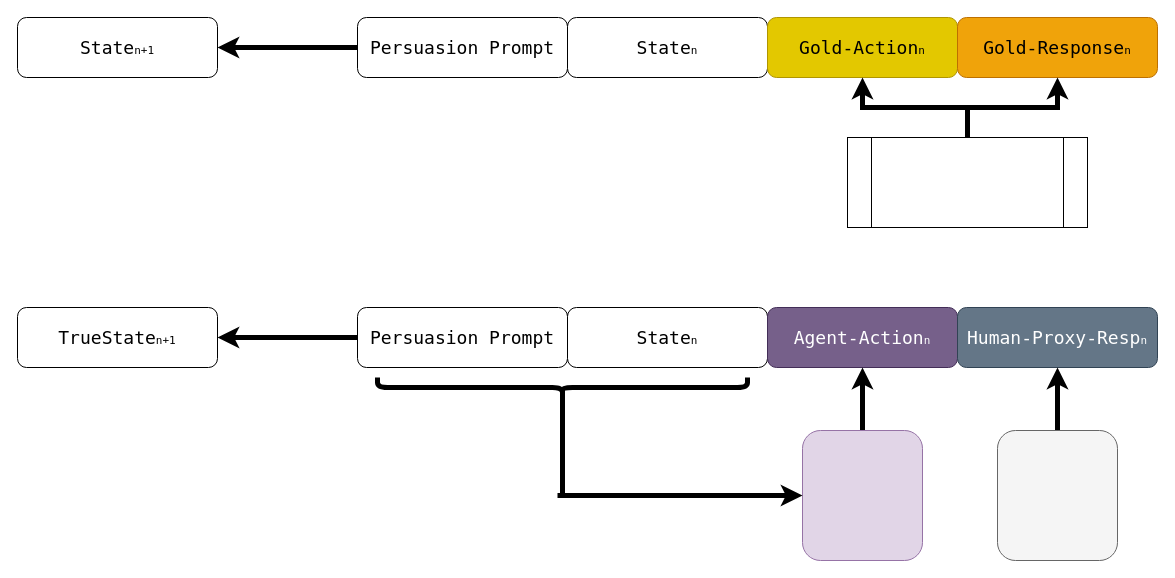
Some shapes in this 1175 by 578 pixel diagram are drawn without their labels. Here are the shapes that lost their labels. From the top down, the centre of each, then its label:
(967,182): Expert Demonstrations
(862,495): GPT 2 Persuader
(1057,495): GPT 2 Persuadee
